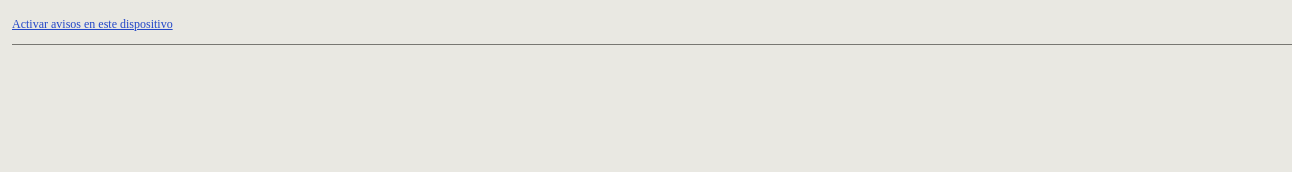
Test case: notification bell device control › subscribes only after the human selects the device action
The width and height of the screenshot is (1292, 172).
Click the button "Activar avisos en este dispositivo" at (92, 24), box [12, 12, 173, 36]
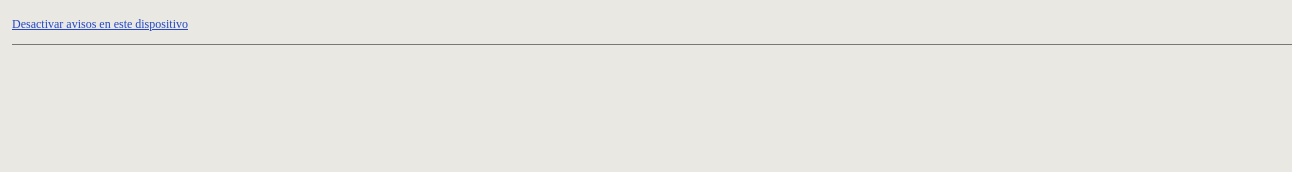
Now the button "Desactivar avisos en este dispositivo" is shown, box [12, 12, 188, 36]
